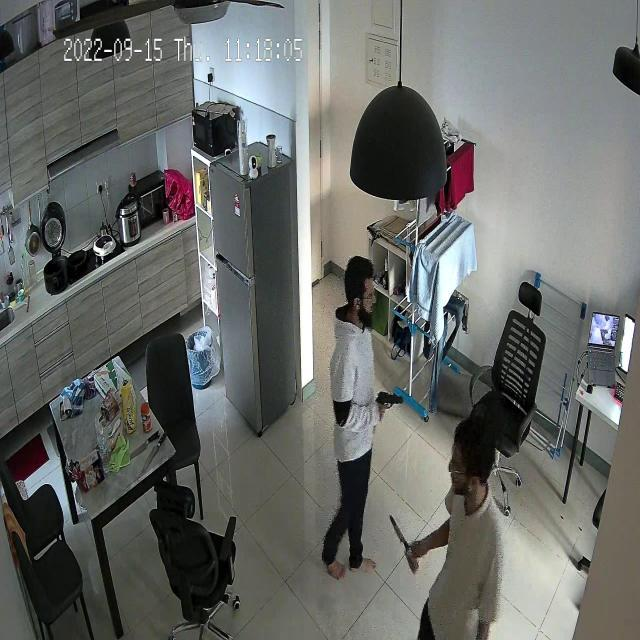Gun: (372, 384, 412, 424)
Knife: (382, 500, 428, 578)
